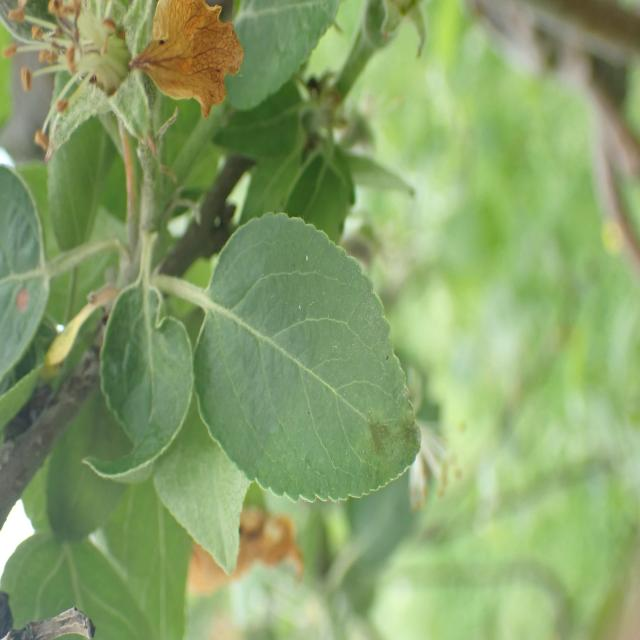Black Rot: (8, 270, 38, 312)
scab: (312, 342, 437, 522)
